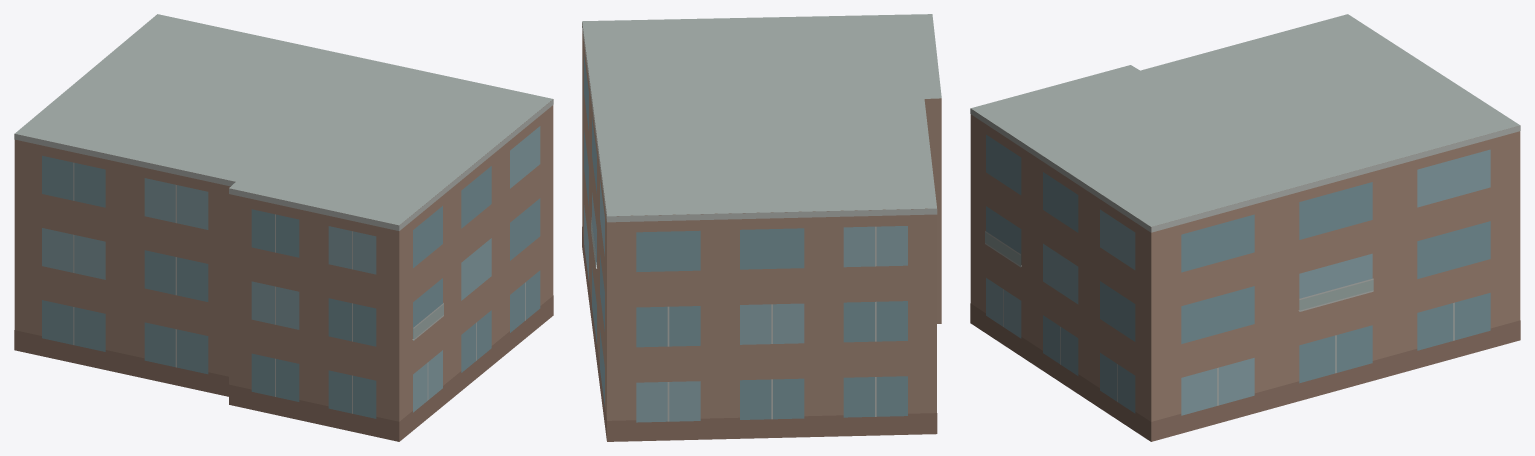
The model's file is survey-upis-32954087.glb.
3 views of the same model, side by side, from view 1: azimuth 30°, elevation 25°; view 2: azimuth 150°, elevation 25°; view 3: azimuth 270°, elevation 25° (orthographic). The views are drawn at different scales.
Visible parts, largest first — view 1: survey-upis-32954087.tmp; view 2: survey-upis-32954087.tmp; view 3: survey-upis-32954087.tmp.
Part boxes in pixels (x1=…): survey-upis-32954087.tmp: x1=14, y1=14, x2=553, y2=441; survey-upis-32954087.tmp: x1=582, y1=14, x2=941, y2=441; survey-upis-32954087.tmp: x1=970, y1=14, x2=1520, y2=441.
Bounding box in the file's own units: 19.46 × 9.15 × 21.24.
